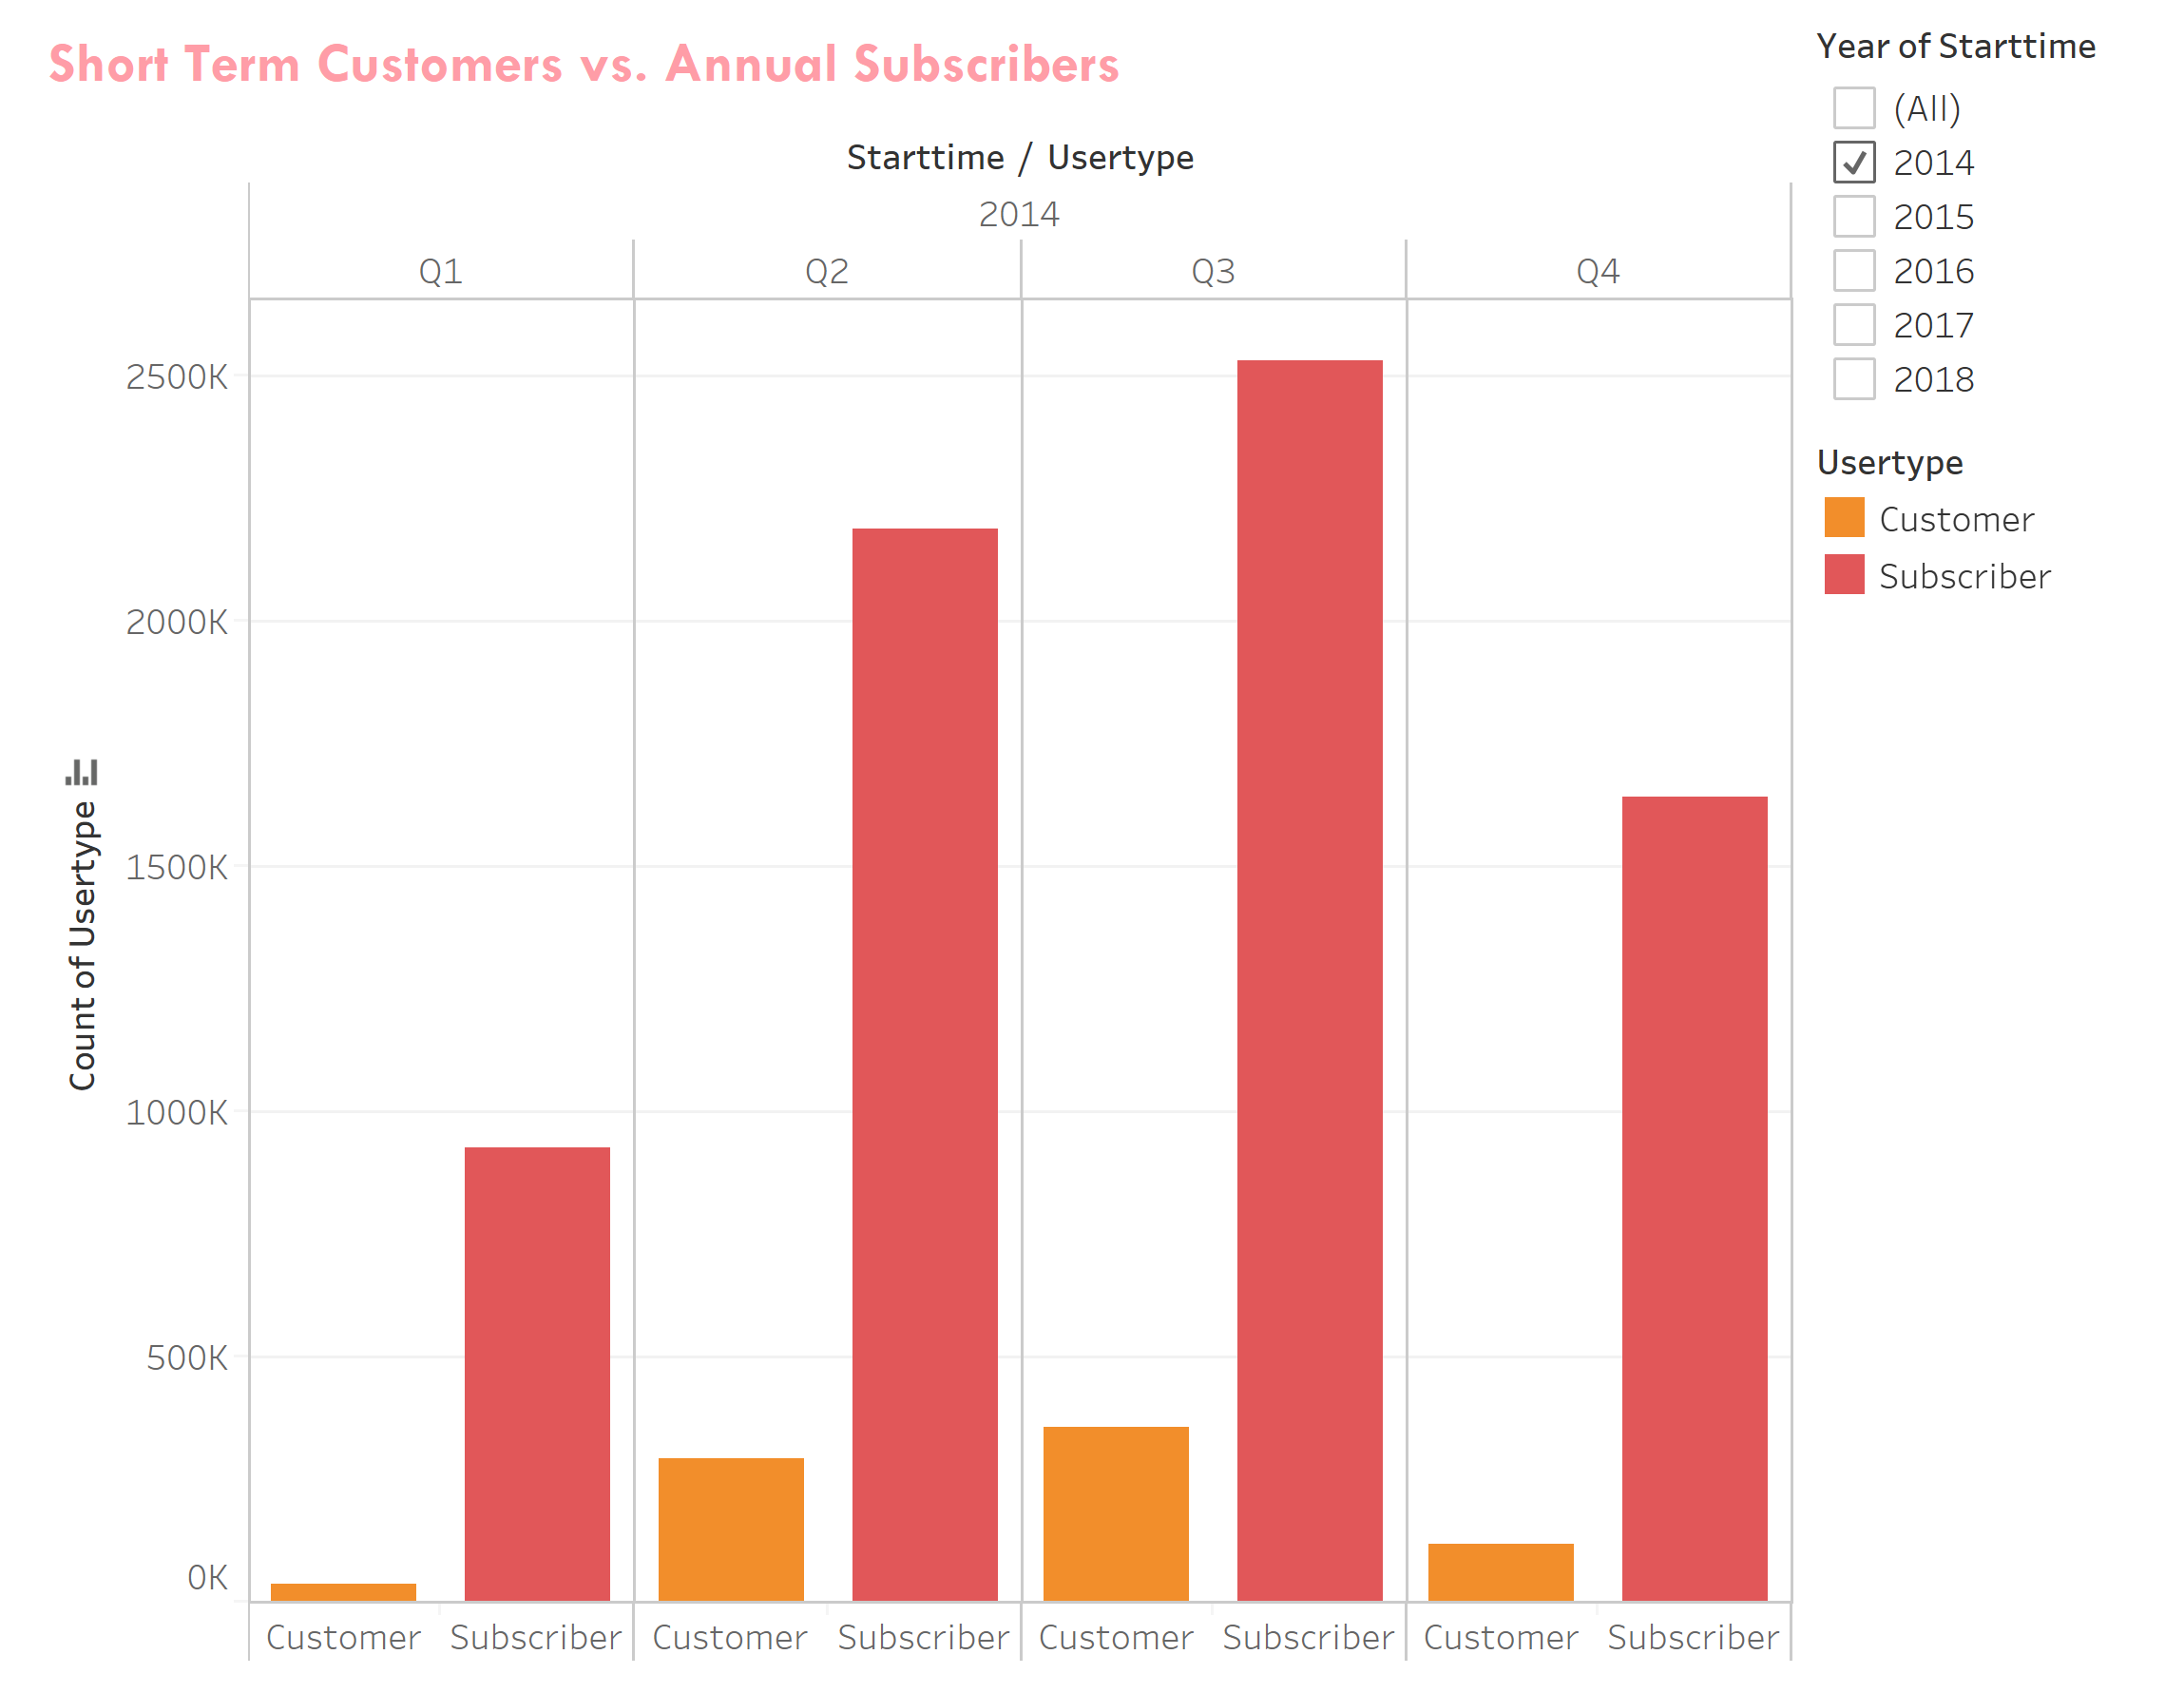

What the dashboard file says about the page in this screenshot:
{"tool":"tableau","page":{"name":"Dashboard 2","canvas":[800,600],"ordinal":1},"visuals":[{"type":"worksheet","title":"Sheet 3","mark":"Bar","rows":["usertype"],"cols":["starttime","starttime","usertype"],"box":[8,8,624,584]},{"type":"filter","title":"Sheet 3","param":"[federated.0o6bcyj08k7vi61bhyd3708n9wq9].[yr:starttime:ok]","box":[632,8,160,146]},{"type":"legend","title":"Sheet 3","param":"[federated.0o6bcyj08k7vi61bhyd3708n9wq9].[none:usertype:nk]","box":[632,154,160,66]}]}

Visuals, with their boxes on the page's 800x600 design canvas (x1, y1, x2, y2). These are canvas units, not pixel positions in the 2184x1693 screenshot, which may show the page scaled, cropped or inside an application window:
"Sheet 3" worksheet (Bar marks): locate(8, 8, 632, 592)
"Sheet 3" filter: locate(632, 8, 792, 154)
"Sheet 3" legend: locate(632, 154, 792, 220)
